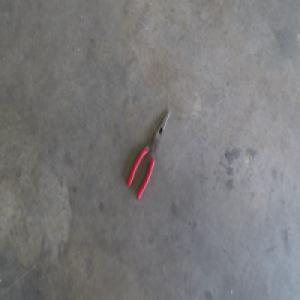Pliers: (126, 108, 171, 200)
